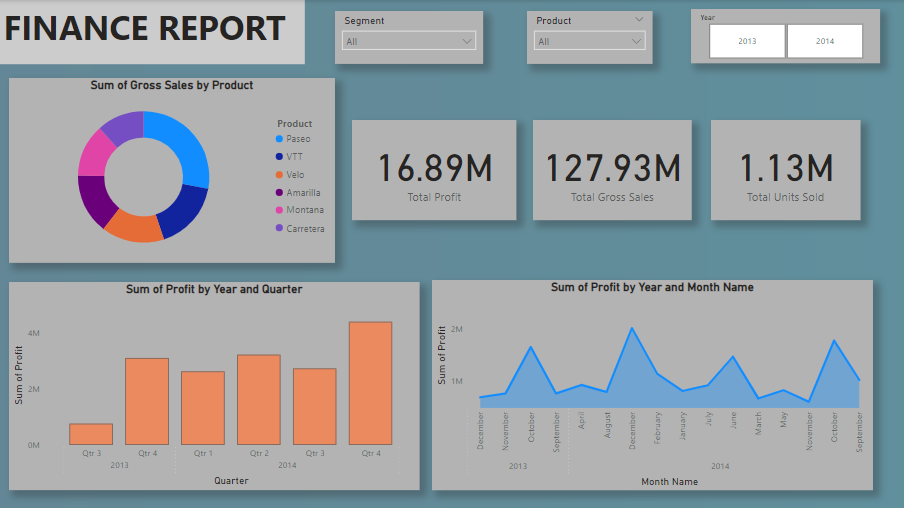

This screenshot's page, from the dashboard's own definition file:
{"tool":"powerbi","page":{"name":"Page 1","canvas":[1280,720],"ordinal":0},"visuals":[{"type":"textbox","box":[0,0,431.7,90.7],"z":0},{"type":"card","fields":{"Values":["financial_data.Total Gross Sales"]},"box":[755,170,225,141.7],"z":1000},{"type":"card","fields":{"Values":["financial_data.Total Profit"]},"box":[498.3,170,233.3,141.7],"z":2000},{"type":"card","fields":{"Values":["financial_data.Total Units Sold"]},"box":[1008.3,170,211.7,141.7],"z":3000},{"type":"columnChart","fields":{"Y":["Sum(financial_data. Profit )"],"Category":["financial_data.Date.Variation.Date Hierarchy.Year","financial_data.Date.Variation.Date Hierarchy.Quarter"]},"box":[13.3,400,581.7,295],"z":4000},{"type":"donutChart","fields":{"Category":["financial_data. Product "],"Y":["Sum(financial_data. Gross Sales )"]},"box":[13.3,110,461.7,261.7],"z":5000},{"type":"areaChart","fields":{"Category":["financial_data.Year","financial_data. Month Name "],"Y":["Sum(financial_data. Profit )"]},"box":[611.7,396.7,625,298.3],"z":6000},{"type":"slicer","fields":{"Values":["financial_data.Year"]},"box":[980,13.3,268.3,76.7],"z":7000},{"type":"slicer","fields":{"Values":["financial_data.Segment"]},"box":[475,15,210,75],"z":8000},{"type":"slicer","fields":{"Values":["financial_data. Product "]},"box":[746.7,15,178.3,75],"z":9000}]}

Visuals, with their boxes in screenshot pixels (x1, y1, x2, y2), scaled from the page's 1280x720 canvas onto the 904x508 screenshot:
textbox: x1=0, y1=0, x2=305, y2=64
card - financial_data.Total Gross Sales: x1=533, y1=120, x2=692, y2=220
card - financial_data.Total Profit: x1=352, y1=120, x2=517, y2=220
card - financial_data.Total Units Sold: x1=712, y1=120, x2=862, y2=220
columnChart - Sum(financial_data. Profit ) x financial_data.Date.Variation.Date Hierarchy.Year: x1=9, y1=282, x2=420, y2=490
donutChart - financial_data. Product  x Sum(financial_data. Gross Sales ): x1=9, y1=78, x2=335, y2=262
areaChart - financial_data.Year x financial_data. Month Name : x1=432, y1=280, x2=873, y2=490
slicer - financial_data.Year: x1=692, y1=9, x2=882, y2=64
slicer - financial_data.Segment: x1=335, y1=11, x2=484, y2=64
slicer - financial_data. Product : x1=527, y1=11, x2=653, y2=64
